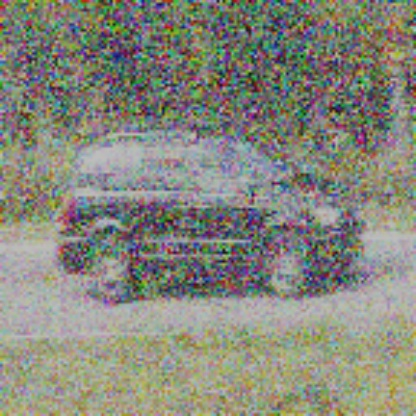Vehicle: (60, 124, 362, 300)
